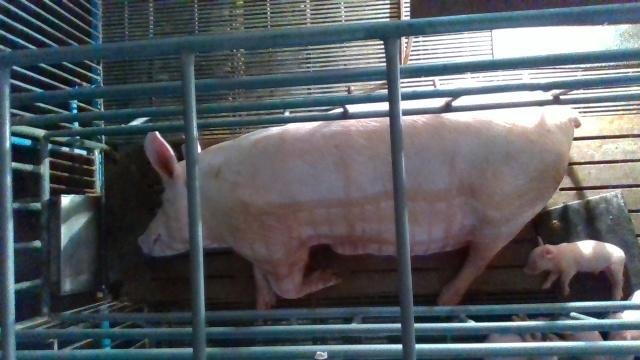piglet: (524, 235, 625, 302)
sow-sleep: (137, 82, 582, 310)
